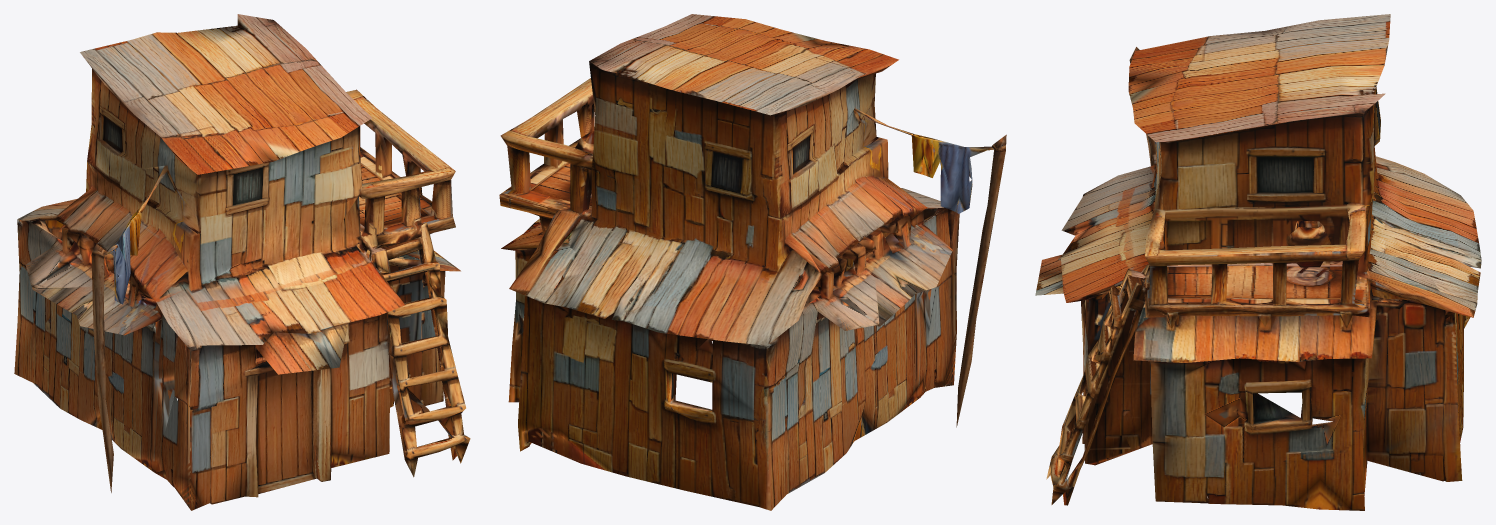
Rendered from Settle_Shanty_TwoStory.fbx.
3 renders of one model, left to right at view 1: azimuth 30°, elevation 25°; view 2: azimuth 150°, elevation 25°; view 3: azimuth 270°, elevation 25°, orthographic. The views are drawn at different scales.
Parts seen in each view (by area): view 1: texture_mapping; view 2: texture_mapping; view 3: texture_mapping.
Part boxes in pixels (<box>): texture_mapping: <box>14,14,470,510</box>; texture_mapping: <box>499,14,1006,510</box>; texture_mapping: <box>1035,14,1481,510</box>.
Size of the model in its own units: 0.9849 by 0.9559 by 0.8963.
Materials: 1 (1 with a texture image).
